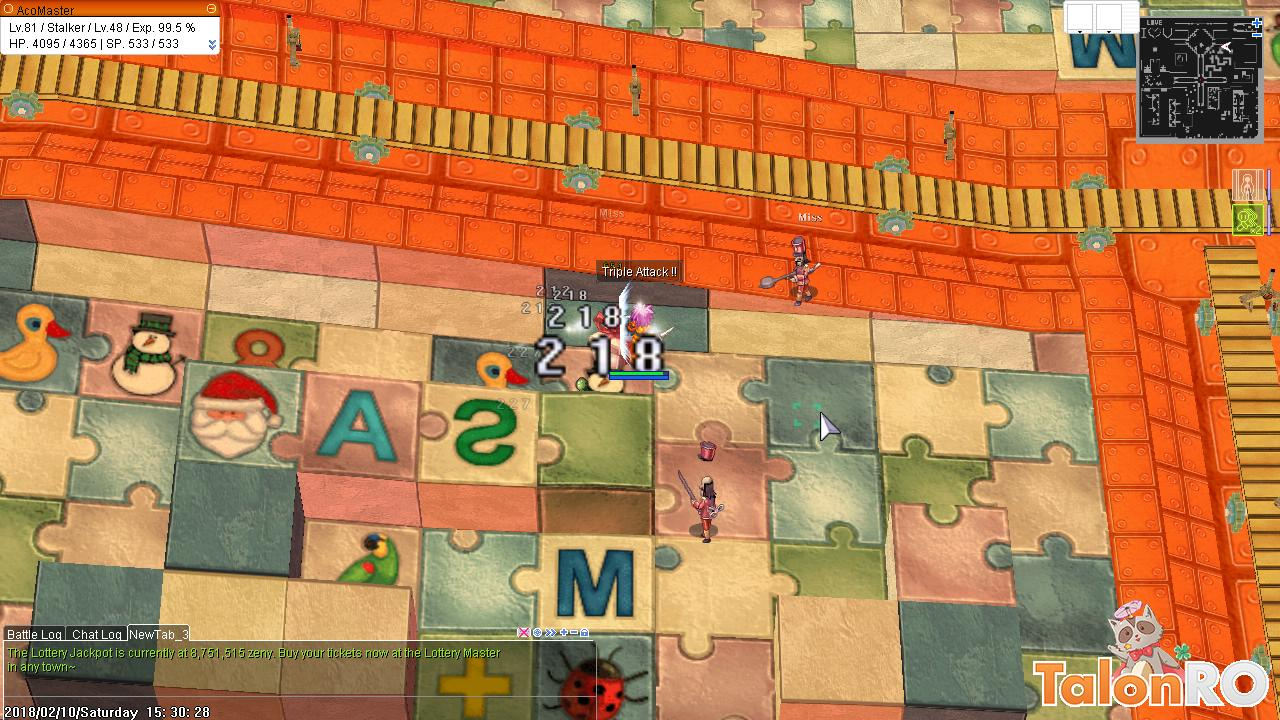loot: (575, 377, 589, 392)
mob: (674, 439, 727, 549), (762, 231, 828, 308)
